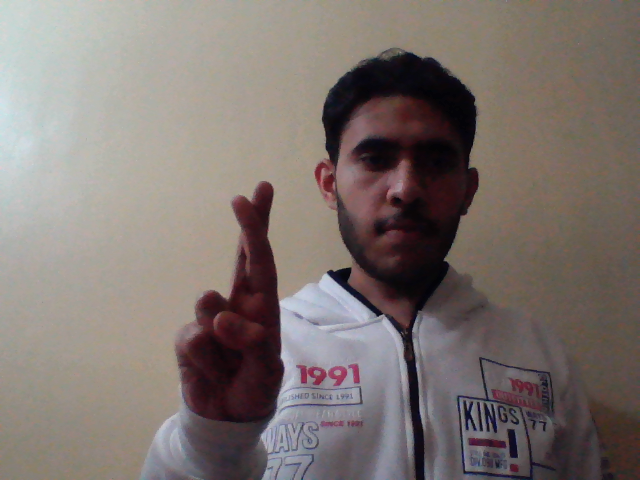R: (170, 176, 285, 433)
